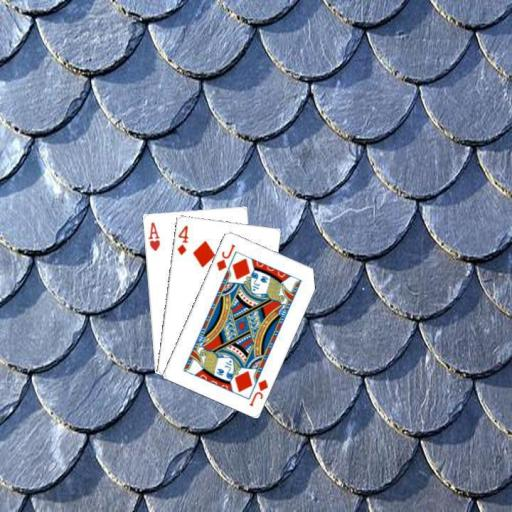card-corner: (213, 240, 237, 272), (246, 376, 270, 408), (173, 222, 190, 256), (145, 219, 161, 252)
